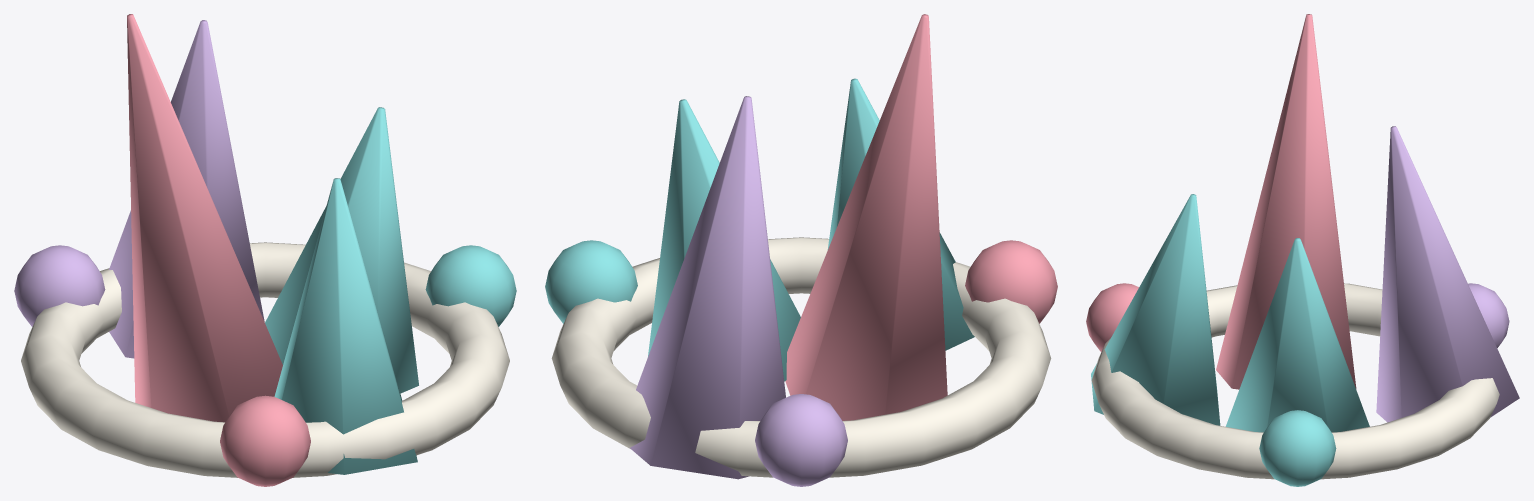
The model's file is treasure_cluster_0.glb.
The picture shows the model from 3 angles, left to right: view 1: azimuth 30°, elevation 25°; view 2: azimuth 150°, elevation 25°; view 3: azimuth 270°, elevation 25°; orthographic projection. The views are drawn at different scales.
Parts seen in each view (by area): view 1: PearlNest, Crystal_2, Crystal_3, Crystal_0, Crystal_1, Gem_2, Gem_0, Gem_1; view 2: Crystal_2, PearlNest, Crystal_1, Crystal_0, Gem_1, Crystal_3, Gem_0, Gem_2; view 3: Crystal_1, PearlNest, Crystal_2, Crystal_3, Crystal_0, Gem_0, Gem_2, Gem_1.
Part boxes in pixels (x1,y1,x2,y2): PearlNest: [21, 242, 509, 477]; Crystal_2: [127, 14, 282, 422]; Crystal_3: [274, 178, 417, 474]; Crystal_0: [265, 107, 418, 393]; Crystal_1: [109, 20, 264, 358]; Gem_2: [220, 395, 310, 486]; Gem_0: [425, 245, 516, 326]; Gem_1: [14, 245, 105, 326]; Crystal_2: [785, 14, 947, 420]; PearlNest: [551, 237, 1051, 477]; Crystal_1: [629, 96, 785, 479]; Crystal_0: [648, 99, 800, 381]; Gem_1: [755, 394, 847, 486]; Crystal_3: [827, 78, 974, 350]; Gem_0: [545, 240, 637, 323]; Gem_2: [965, 240, 1057, 323]; Crystal_1: [1376, 126, 1519, 422]; PearlNest: [1091, 283, 1499, 479]; Crystal_2: [1216, 14, 1356, 389]; Crystal_3: [1091, 194, 1220, 425]; Crystal_0: [1226, 238, 1369, 432]; Gem_0: [1259, 410, 1336, 486]; Gem_2: [1086, 283, 1138, 351]; Gem_1: [1468, 283, 1509, 347].
Bounding box in the file's own units: 2.89 × 2.5 × 2.82.
